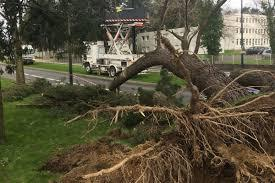Downstairs: (105, 18, 275, 183)
